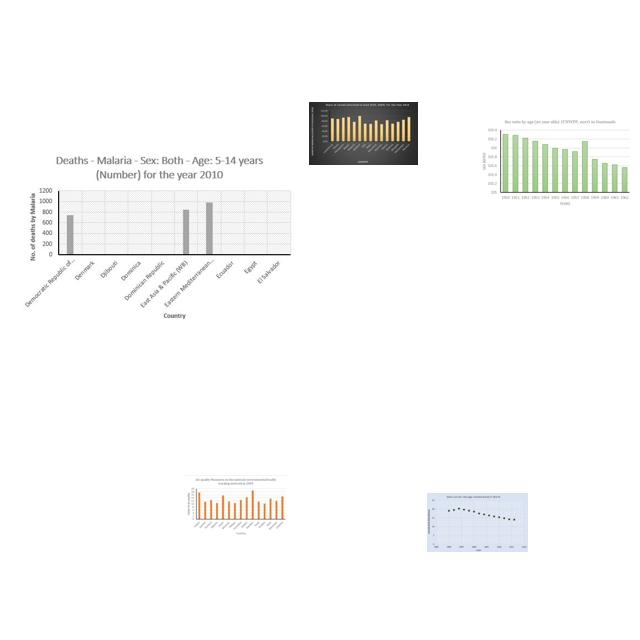Graph: (23, 152, 296, 325), (478, 118, 633, 209), (309, 102, 418, 165), (184, 475, 287, 537), (427, 493, 528, 552)
